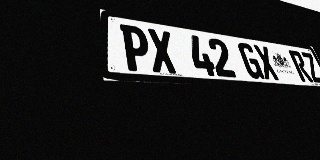2: (207, 37, 236, 77)
4: (187, 34, 217, 76)
G: (236, 42, 265, 79)
P: (120, 24, 152, 72)
R: (288, 50, 314, 82)
X: (146, 28, 178, 74), (252, 44, 280, 80)
Z: (300, 52, 320, 83)
